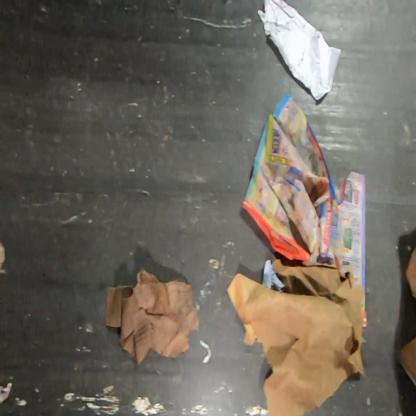cardboard: (398, 333, 416, 389), (404, 245, 416, 300)
